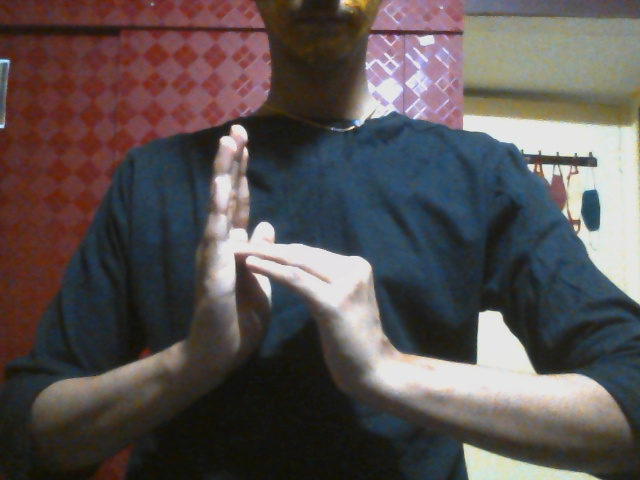Z: (185, 124, 416, 409)
